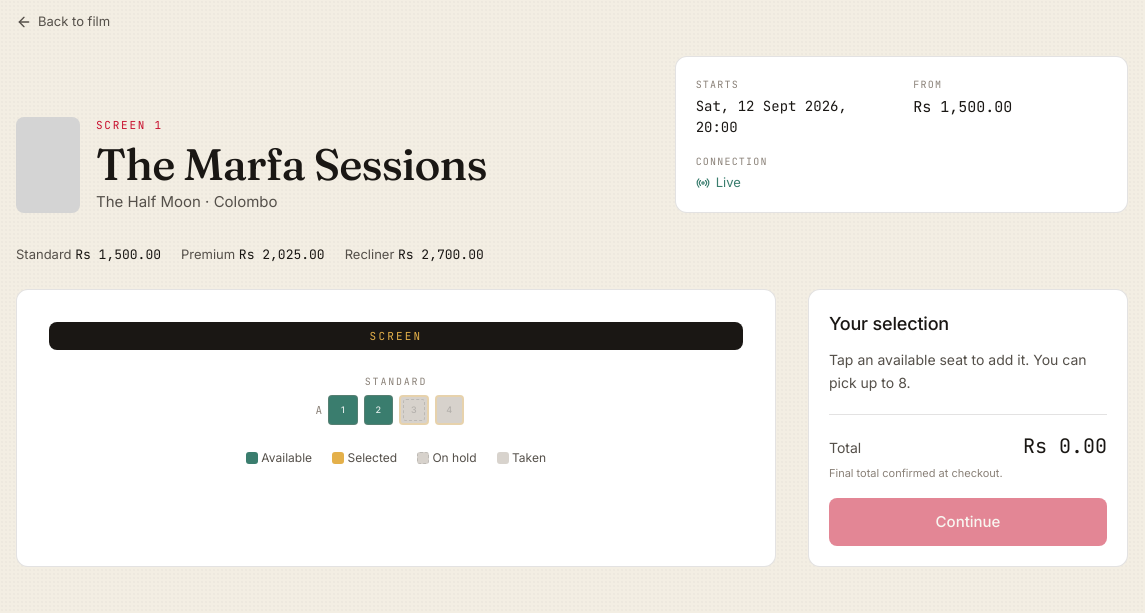
Test: ShowtimePage › shows a generic inline error for a hold-creation failure unrelated to seats or verification
Click the button "1" at {"x": 343, "y": 410}, box [328,395,358,425]
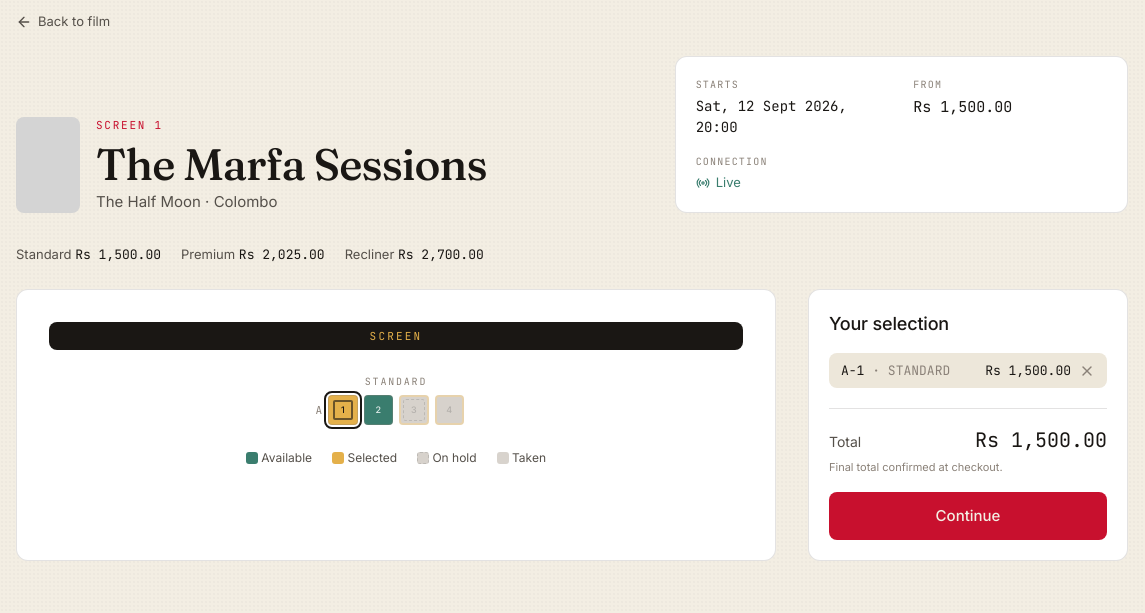
Click the button "Continue" at {"x": 968, "y": 516}, box [829,492,1107,540]
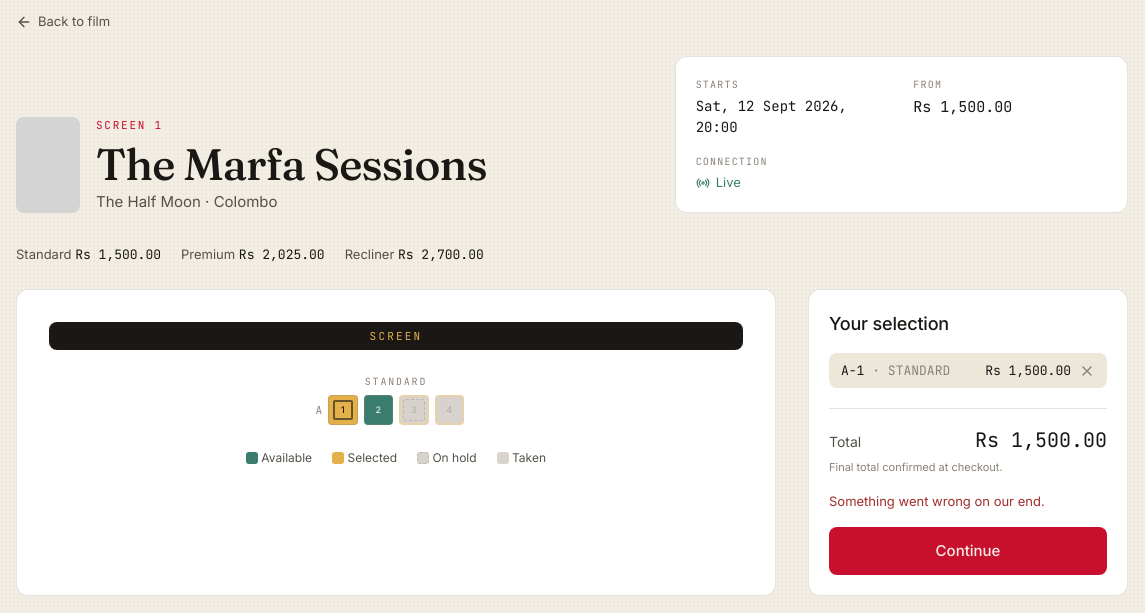
Expected: the message shows "Something went wrong on our end", [829,493,1045,509]
